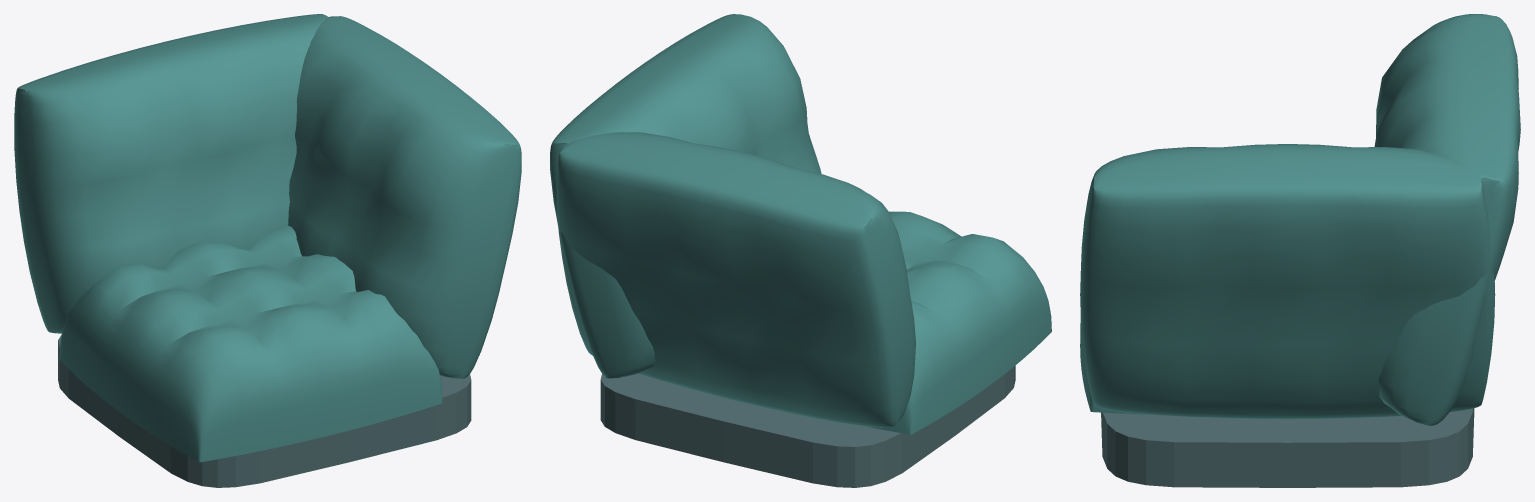
Rendered from KC32__AD_Int_Sofa_Mod_Corner.glb.
3 views of the same model, side by side, from view 1: azimuth 30°, elevation 25°; view 2: azimuth 150°, elevation 25°; view 3: azimuth 270°, elevation 25° (orthographic). The views are drawn at different scales.
Parts seen in each view (by area): view 1: KC32_CORPS__AD_Int_Sofa_Mod_Corner; view 2: KC32_CORPS__AD_Int_Sofa_Mod_Corner; view 3: KC32_CORPS__AD_Int_Sofa_Mod_Corner.
Part boxes in pixels (box(x1,y1,x2,y2)): KC32_CORPS__AD_Int_Sofa_Mod_Corner: box(14, 14, 521, 487); KC32_CORPS__AD_Int_Sofa_Mod_Corner: box(550, 14, 1051, 487); KC32_CORPS__AD_Int_Sofa_Mod_Corner: box(1080, 14, 1520, 487).
Bounding box in the file's own units: 1.06 × 0.8705 × 1.06.
